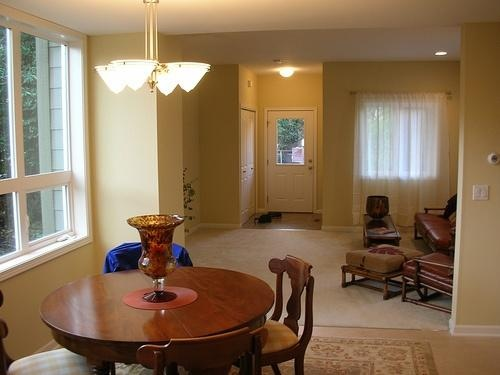chair: (243, 255, 316, 375), (1, 291, 97, 374), (136, 326, 271, 375), (402, 245, 455, 316)
diningtable: (40, 266, 277, 375)
pottedplant: (185, 167, 201, 236)
sofa: (415, 192, 457, 254)
